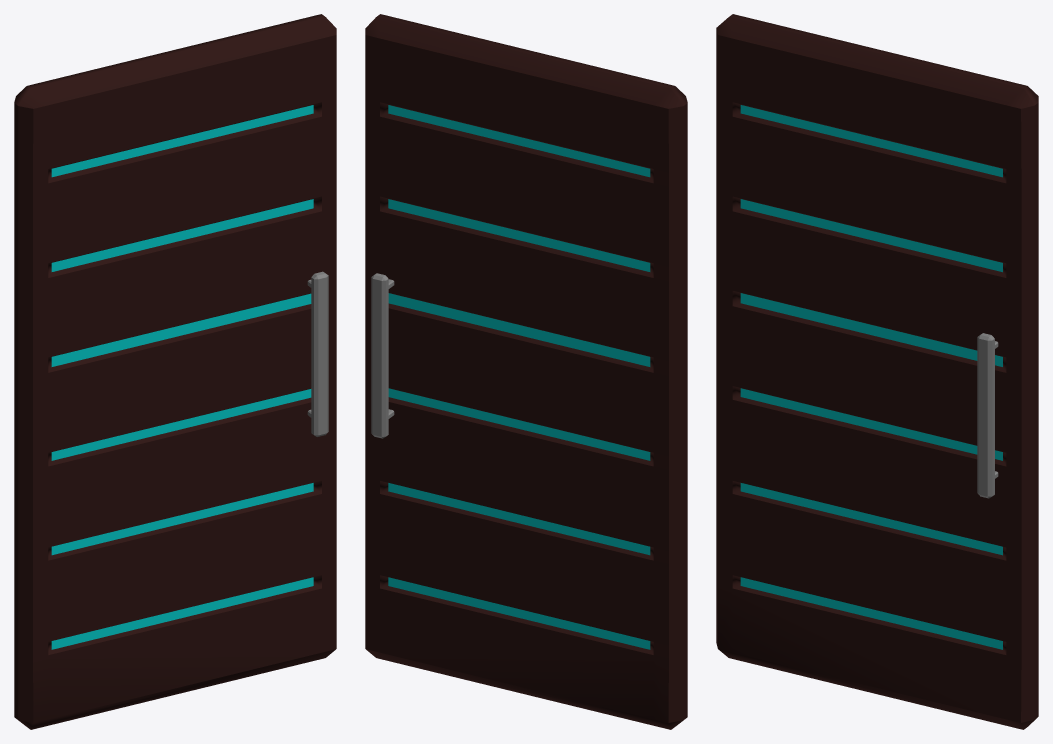
The model's file is PorteRiche2.fbx.
3 views of the same model, side by side, from view 1: azimuth 30°, elevation 25°; view 2: azimuth 150°, elevation 25°; view 3: azimuth 330°, elevation 25° (orthographic).
Visible parts, largest first — view 1: polySurface227; view 2: polySurface227; view 3: polySurface227.
Part boxes in pixels (left/top/right/bottom): polySurface227: left=14, top=14, right=336, bottom=729; polySurface227: left=365, top=14, right=687, bottom=729; polySurface227: left=716, top=14, right=1038, bottom=729.
Size of the model in its own units: 108 by 207 by 25.39.
